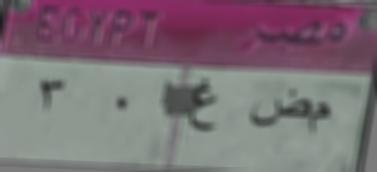0: (109, 88, 138, 125)
3: (37, 72, 69, 124)
daad: (244, 82, 309, 134)
ghayn: (186, 68, 221, 143)
meem: (312, 99, 334, 144)
